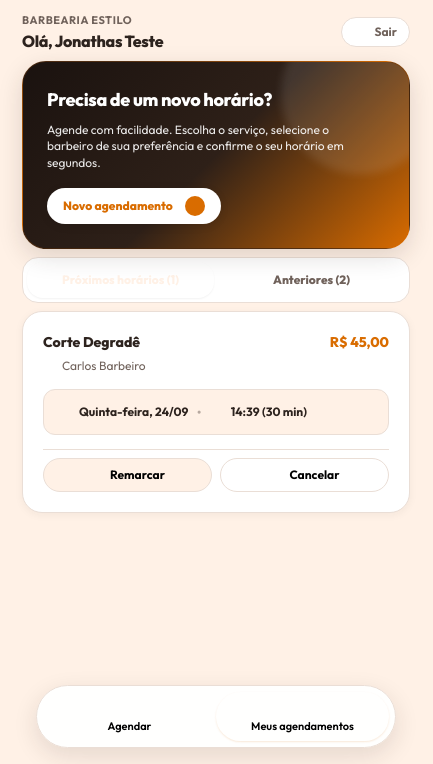
Test: MenuCliente - TDD › não lista em Próximos horários um agendamento do passado nem um marcado como não compareceu (spec 044)
The image size is (433, 764).
Check: the heading "Corte Degradê" is shown, box [43,332,146,353]
Check: the text "Barba Vencida" is not shown
Click the button "Anteriores (2)". click: coordinates (312, 280)
box: [218,262,405,298]
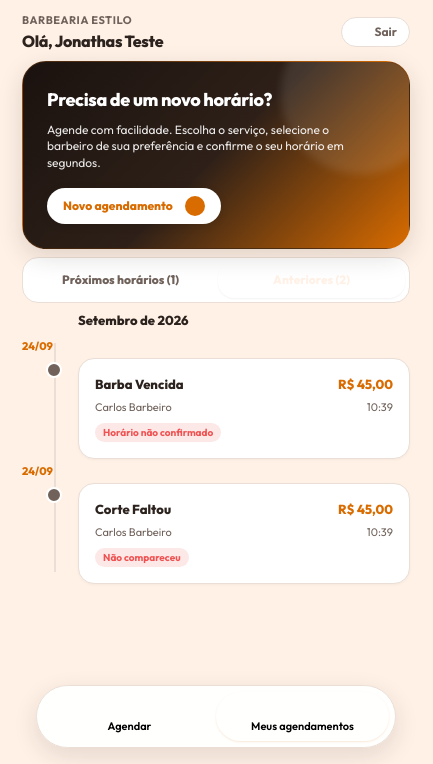
Check: the heading "Barba Vencida" is shown, box [95,375,184,395]
Check: the heading "Corte Faltou" is shown, box [95,500,171,520]
